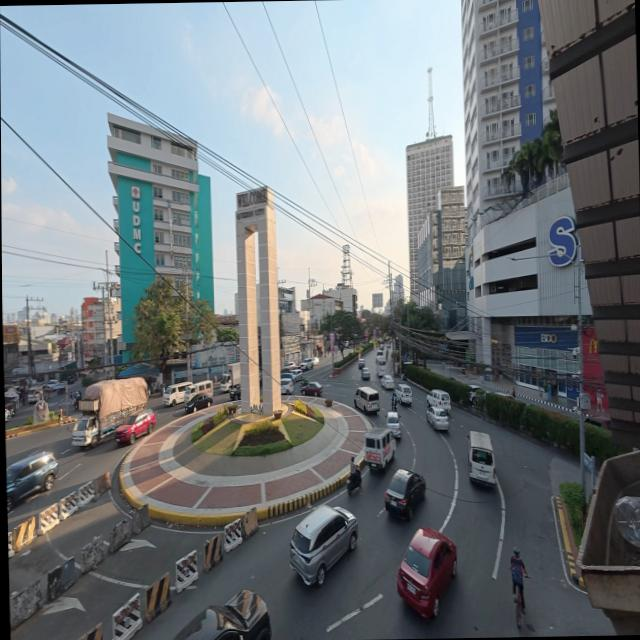car: (290, 505, 357, 586), (397, 529, 457, 617), (173, 590, 271, 639), (6, 452, 59, 513), (386, 469, 426, 520), (115, 410, 155, 444), (184, 390, 213, 412), (427, 407, 448, 430), (387, 411, 401, 438), (396, 384, 412, 404), (302, 382, 323, 397), (470, 385, 486, 401), (281, 375, 294, 394), (228, 382, 241, 400), (291, 368, 304, 384), (382, 375, 394, 389), (495, 391, 516, 399), (53, 381, 67, 393), (46, 380, 59, 391), (301, 358, 314, 369), (361, 367, 371, 380), (357, 358, 365, 370), (285, 361, 296, 369), (296, 364, 307, 372), (5, 409, 11, 421), (376, 348, 384, 357), (313, 357, 319, 366), (345, 341, 349, 347)
motorcycle: (347, 471, 361, 495), (392, 397, 397, 411)
trucks: (72, 378, 147, 446), (220, 363, 241, 391)
vans: (469, 432, 496, 485), (365, 427, 395, 468), (185, 380, 213, 403), (164, 382, 192, 405), (354, 387, 379, 412), (427, 390, 451, 411), (27, 386, 43, 404), (377, 355, 386, 378)
